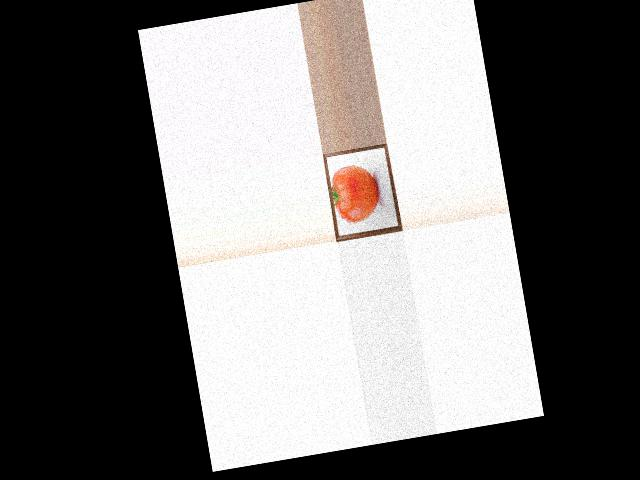tomato: (328, 162, 382, 225)
